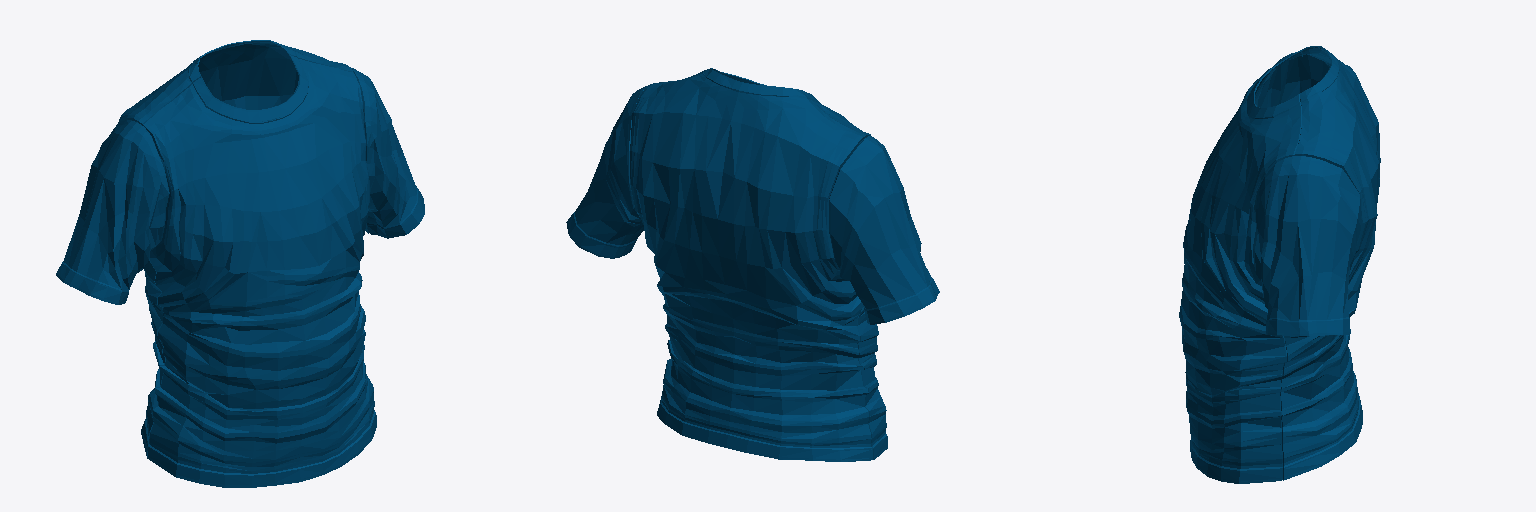
The model's file is blue-shirt.obj.
3 views of the same model, side by side, from view 1: azimuth 30°, elevation 25°; view 2: azimuth 150°, elevation 25°; view 3: azimuth 270°, elevation 25° (orthographic).
Bounding box in the file's own units: 17.39 × 17.87 × 8.43.